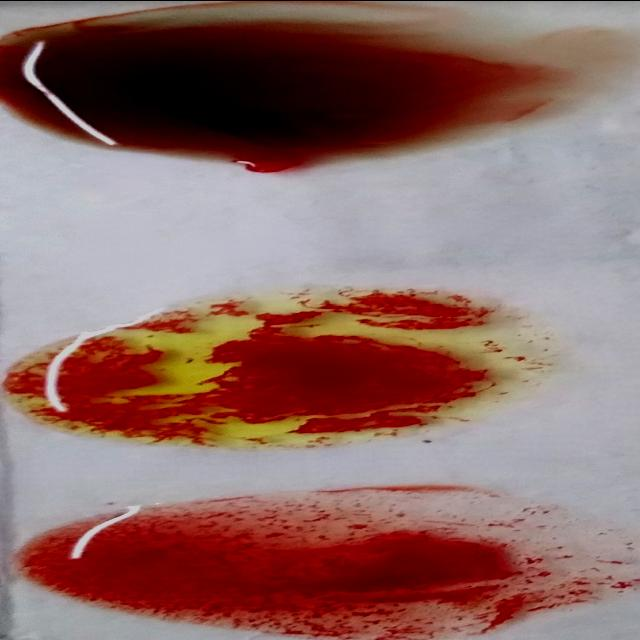B: (19, 293, 544, 450)
D: (31, 500, 640, 636)
